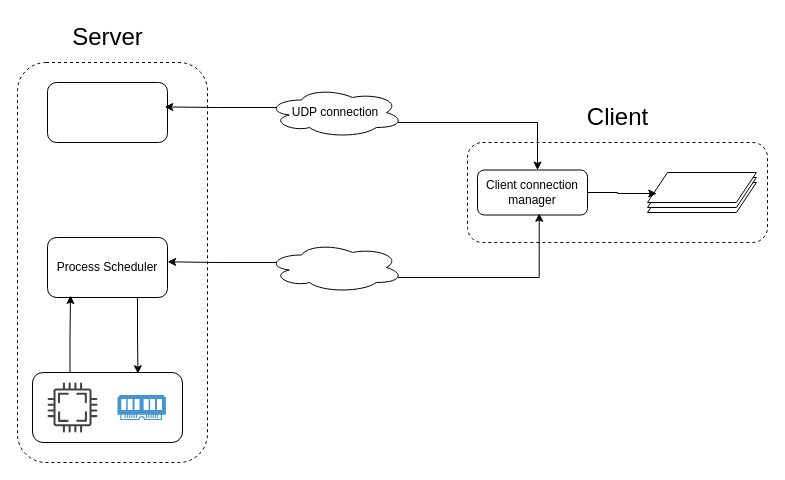
This 785x480 diagram has some shape labels left out. Here are the shapes that lost their labels. From the top down, the centre of each, then its label:
(x=107, y=112): New Connection Manager
(x=701, y=187): Processes
(x=335, y=267): TCP connection
